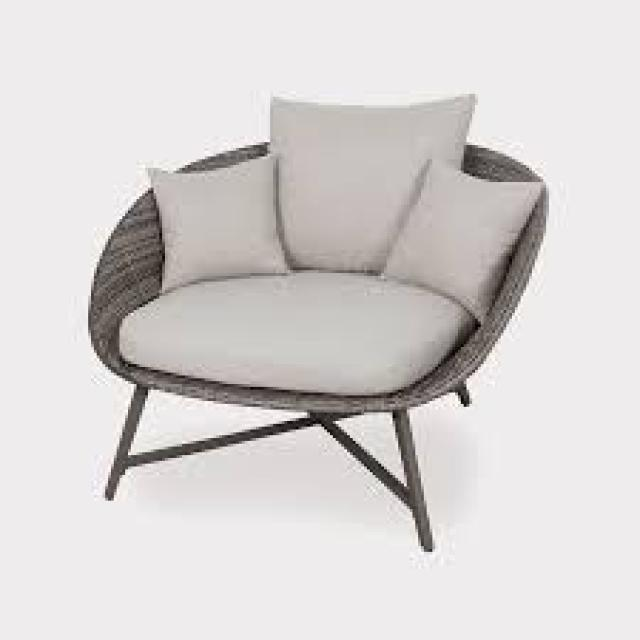chair: (47, 39, 581, 612)
